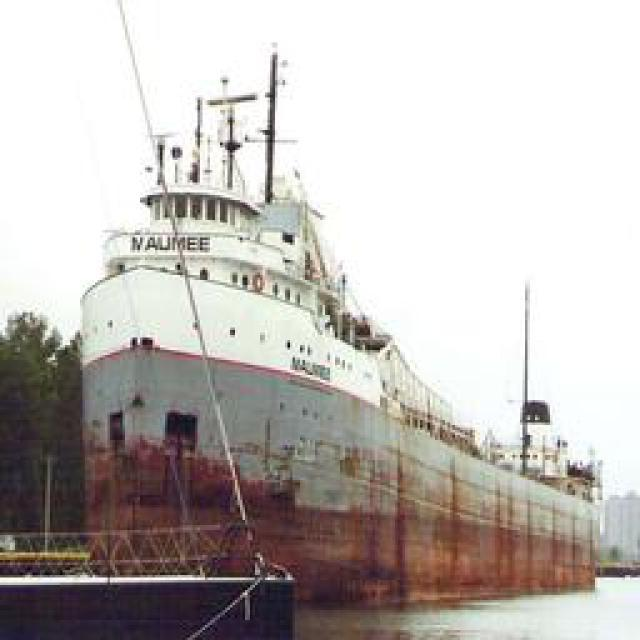Ship: (77, 42, 608, 615)
